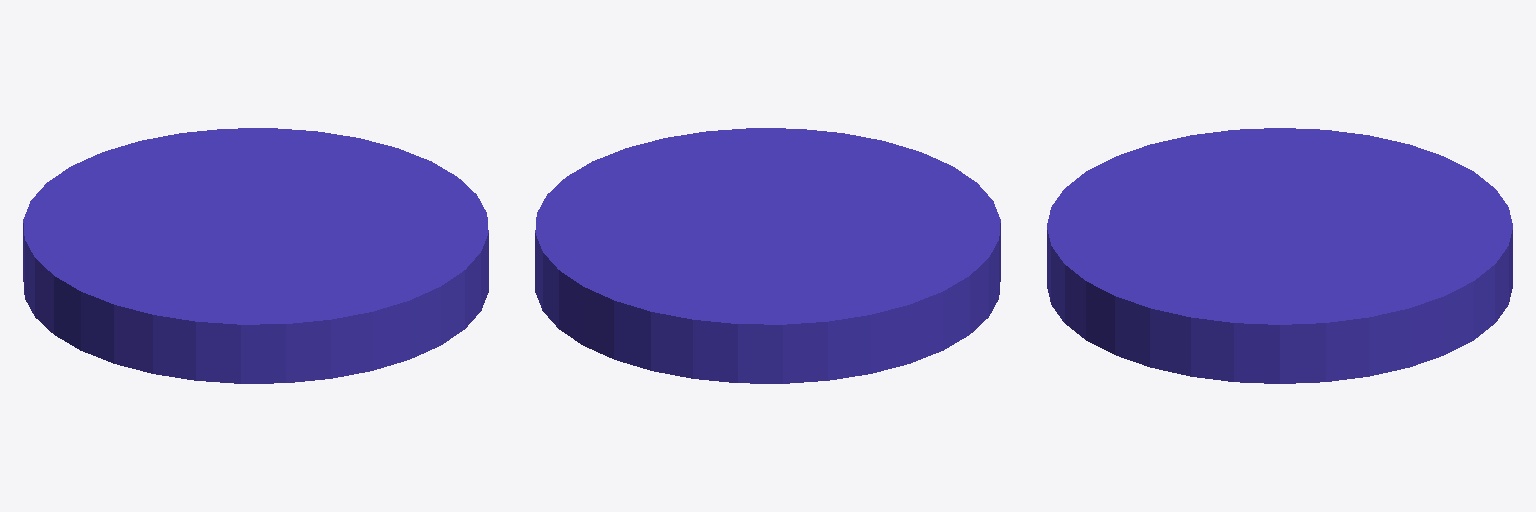
File: column.obj
The picture shows the model from 3 angles: view 1: azimuth 30°, elevation 25°; view 2: azimuth 150°, elevation 25°; view 3: azimuth 270°, elevation 25°; orthographic projection.
Parts seen in each view (by area): view 1: 柱体; view 2: 柱体; view 3: 柱体.
Boxes of the visible parts, <box> form: 柱体: <box>23,128,488,383</box>; 柱体: <box>535,128,1000,383</box>; 柱体: <box>1047,128,1512,383</box>.
Bounding box in the file's own units: 4 × 0.56 × 4.